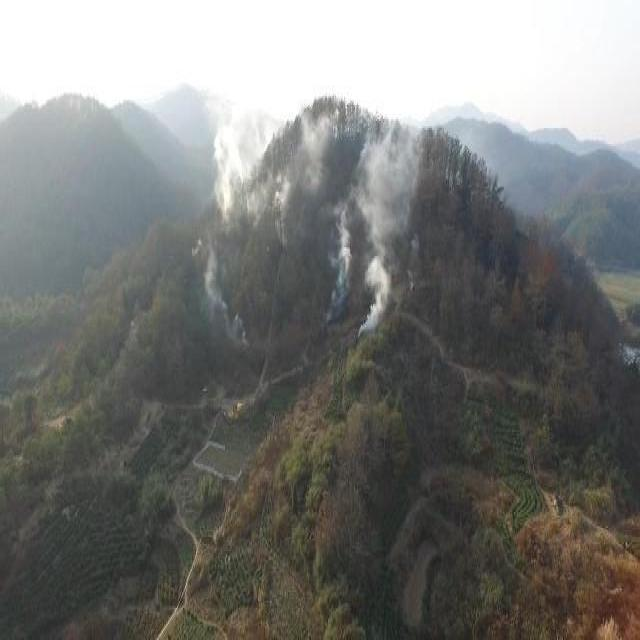Smoke: (190, 96, 425, 347)
